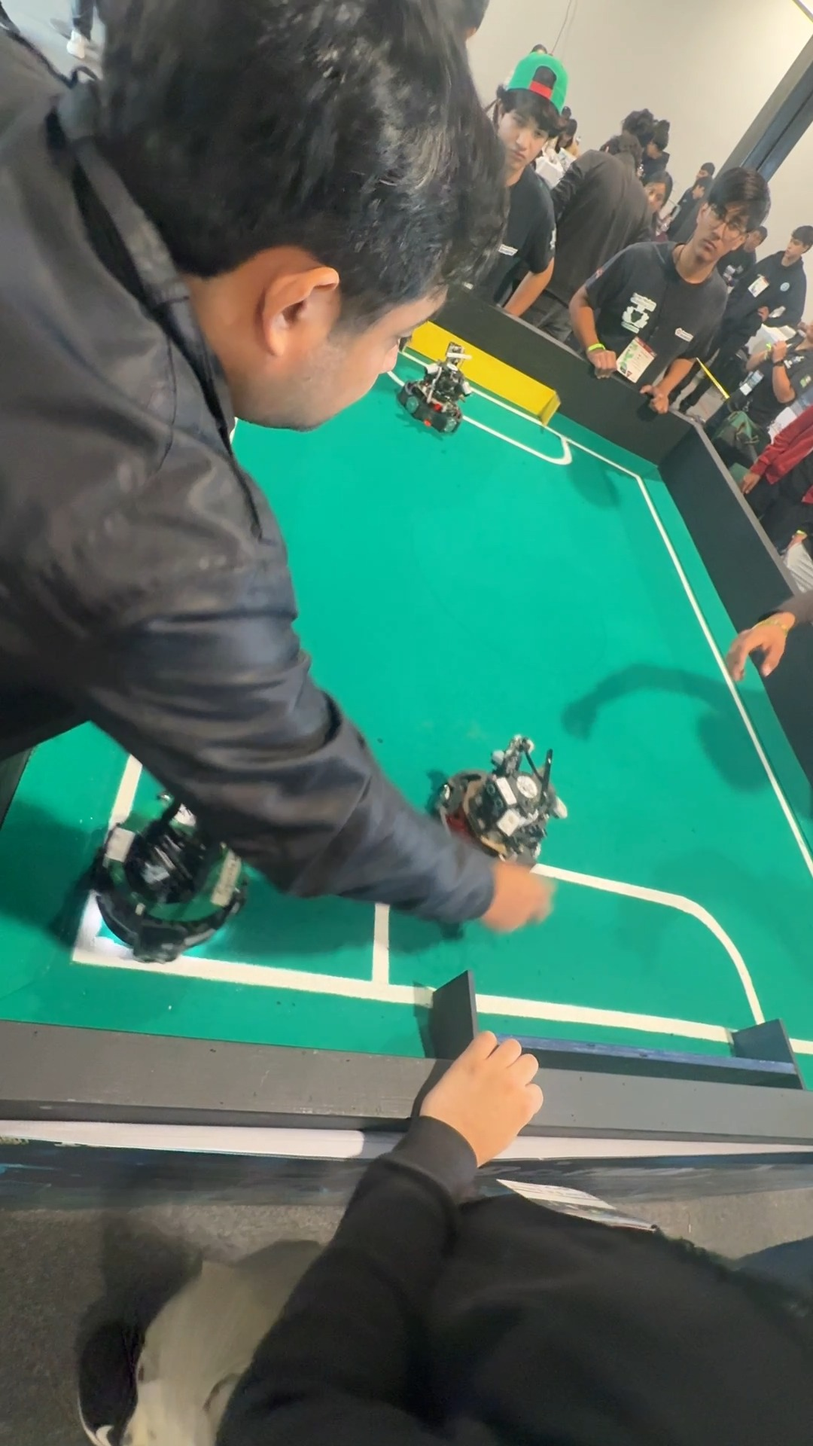Robot: (107, 770, 268, 936), (445, 732, 570, 874), (388, 316, 473, 440)
